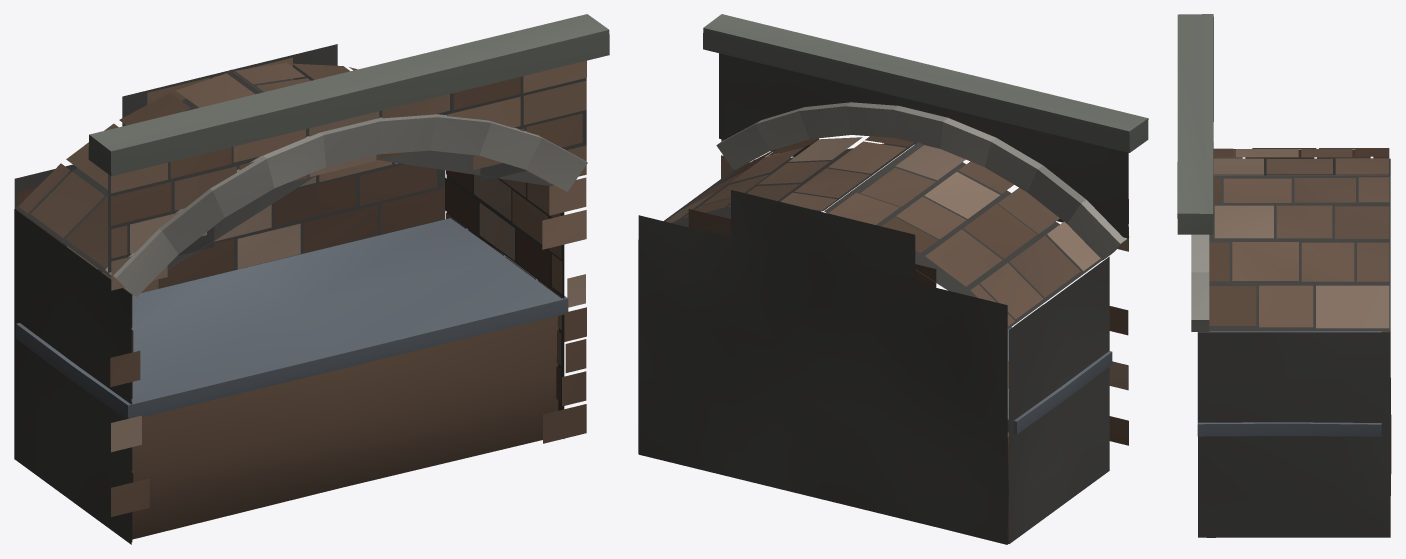
Rendered from ph_int_crypt_niche.glb.
3 renders of one model, left to right at view 1: azimuth 30°, elevation 25°; view 2: azimuth 150°, elevation 25°; view 3: azimuth 270°, elevation 25°, orthographic. The views are drawn at different scales.
Parts seen in each view (by area): view 1: ph_int_crypt_niche; view 2: ph_int_crypt_niche; view 3: ph_int_crypt_niche.
Boxes of the visible parts, bbox=[...] form: ph_int_crypt_niche: bbox=[14, 14, 609, 544]; ph_int_crypt_niche: bbox=[638, 14, 1148, 544]; ph_int_crypt_niche: bbox=[1177, 14, 1391, 537].
Bounding box in the file's own units: 2.09 × 1.65 × 0.9448.
